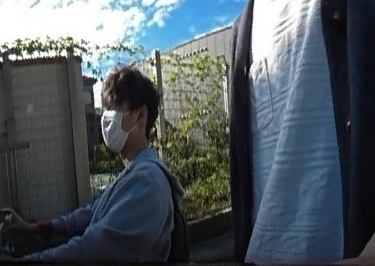person: (79, 64, 169, 266)
